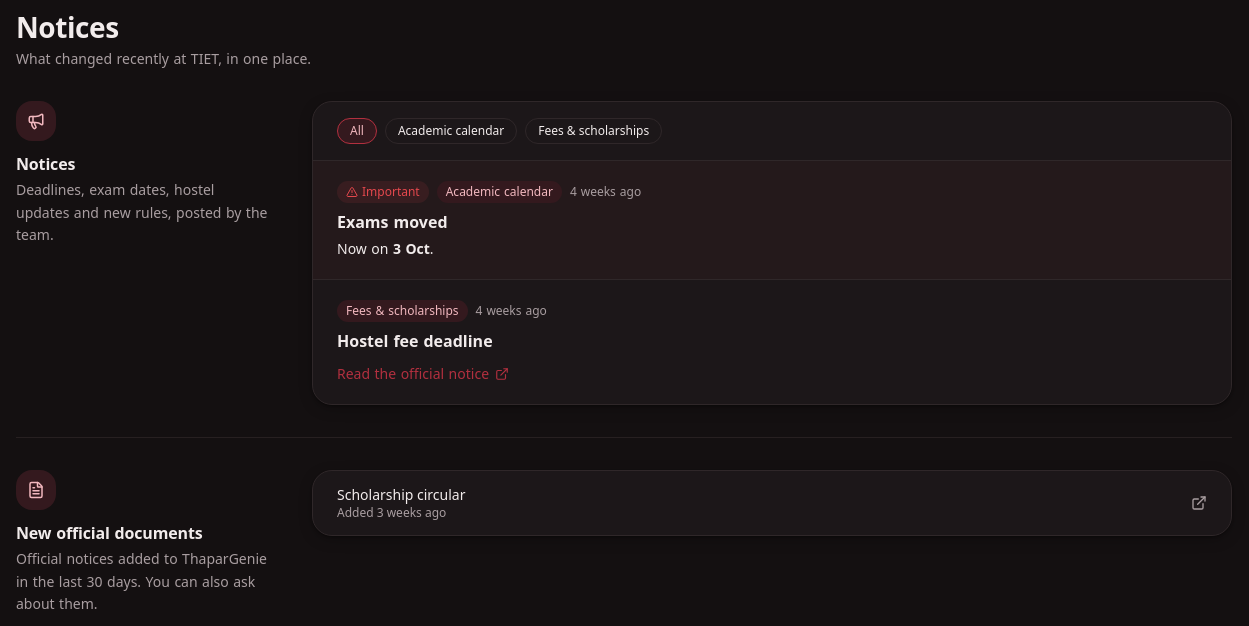
Test case: NoticesPage › filters by topic
Check: the heading "Exams moved" is shown, box [337,211,448,233]
Click the radio button labelled "Fees & scholarships".
click(594, 131)  # box [525,118,662,144]
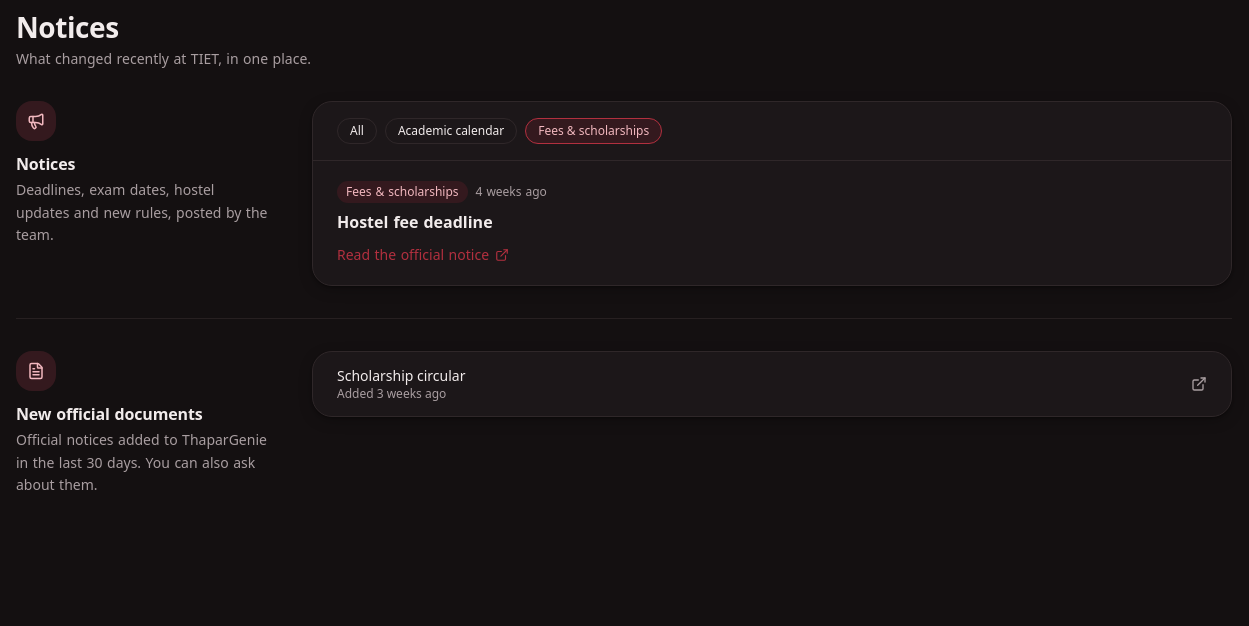
Check: the heading "Hostel fee deadline" is shown, box [337,211,493,233]
Check: the heading "Exams moved" is gone
